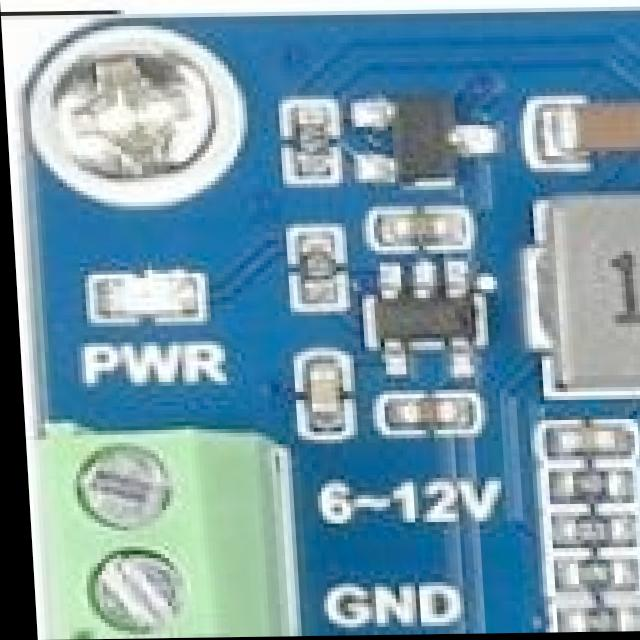IC: (369, 275, 471, 360)
LED: (92, 266, 198, 335)
capacitor: (549, 105, 640, 170), (386, 207, 466, 260), (300, 344, 344, 431), (548, 421, 628, 468), (387, 395, 467, 440)
connector: (24, 433, 294, 640)
inductor: (542, 197, 640, 410)
resistor: (299, 236, 347, 313), (289, 104, 329, 183), (550, 465, 618, 508), (548, 601, 634, 634), (547, 565, 622, 602), (544, 517, 624, 542)
transistor: (369, 95, 472, 200)
